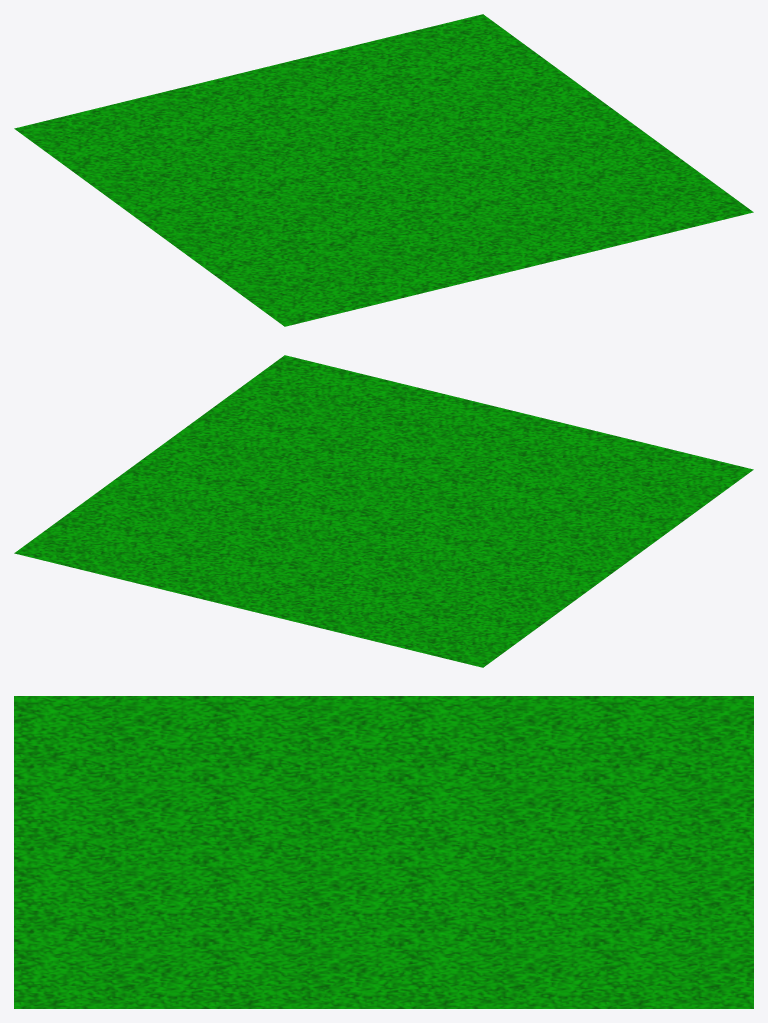
The model's file is sea.glb.
3 renders of one model, top to bottom at view 1: azimuth 30°, elevation 25°; view 2: azimuth 150°, elevation 25°; view 3: azimuth 270°, elevation 25°, orthographic. The views are drawn at different scales.
Visible parts, largest first — view 1: Plane.028; view 2: Plane.028; view 3: Plane.028.
Boxes of the visible parts, <box> form: Plane.028: <box>14,14,753,326</box>; Plane.028: <box>14,355,753,667</box>; Plane.028: <box>14,696,753,1008</box>.
Size of the model in its own units: 2000 by 0 by 2000.
1 material, 1 textured.
